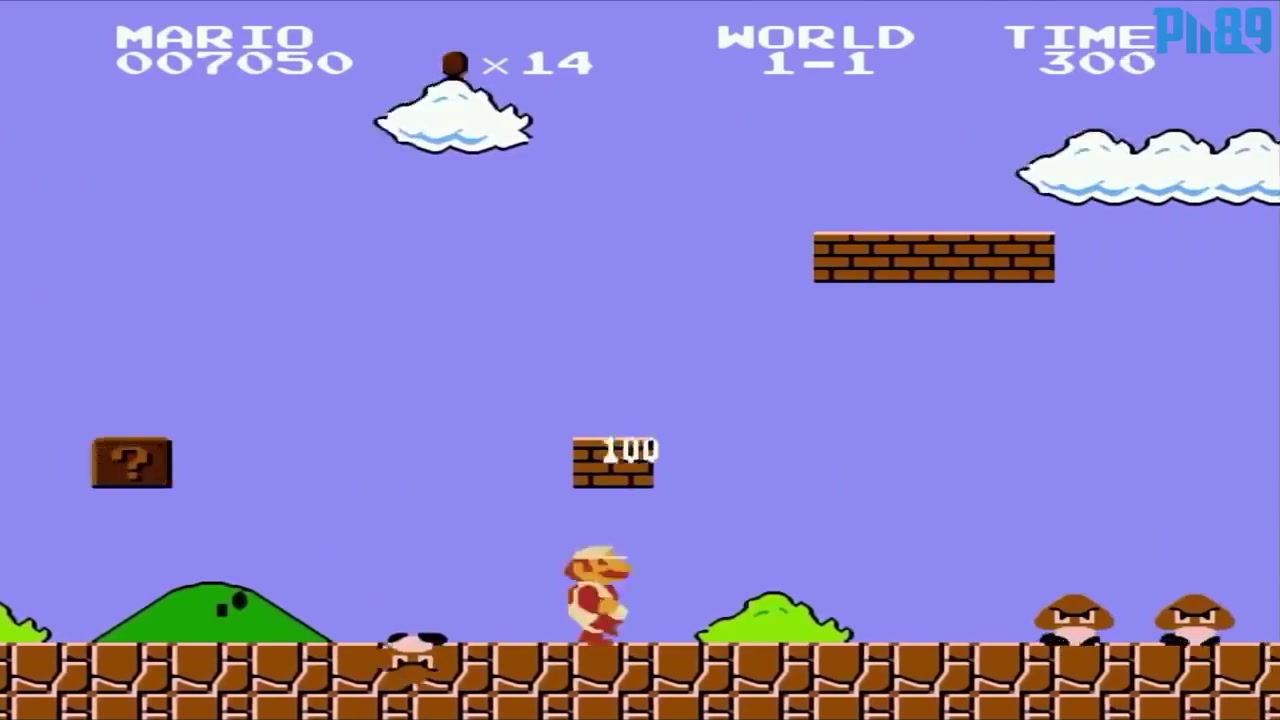mario: (558, 529, 634, 644)
